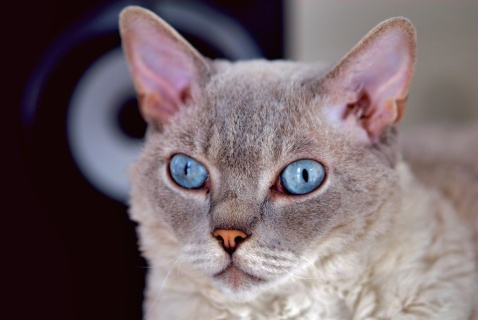Cat: (117, 5, 478, 319)
